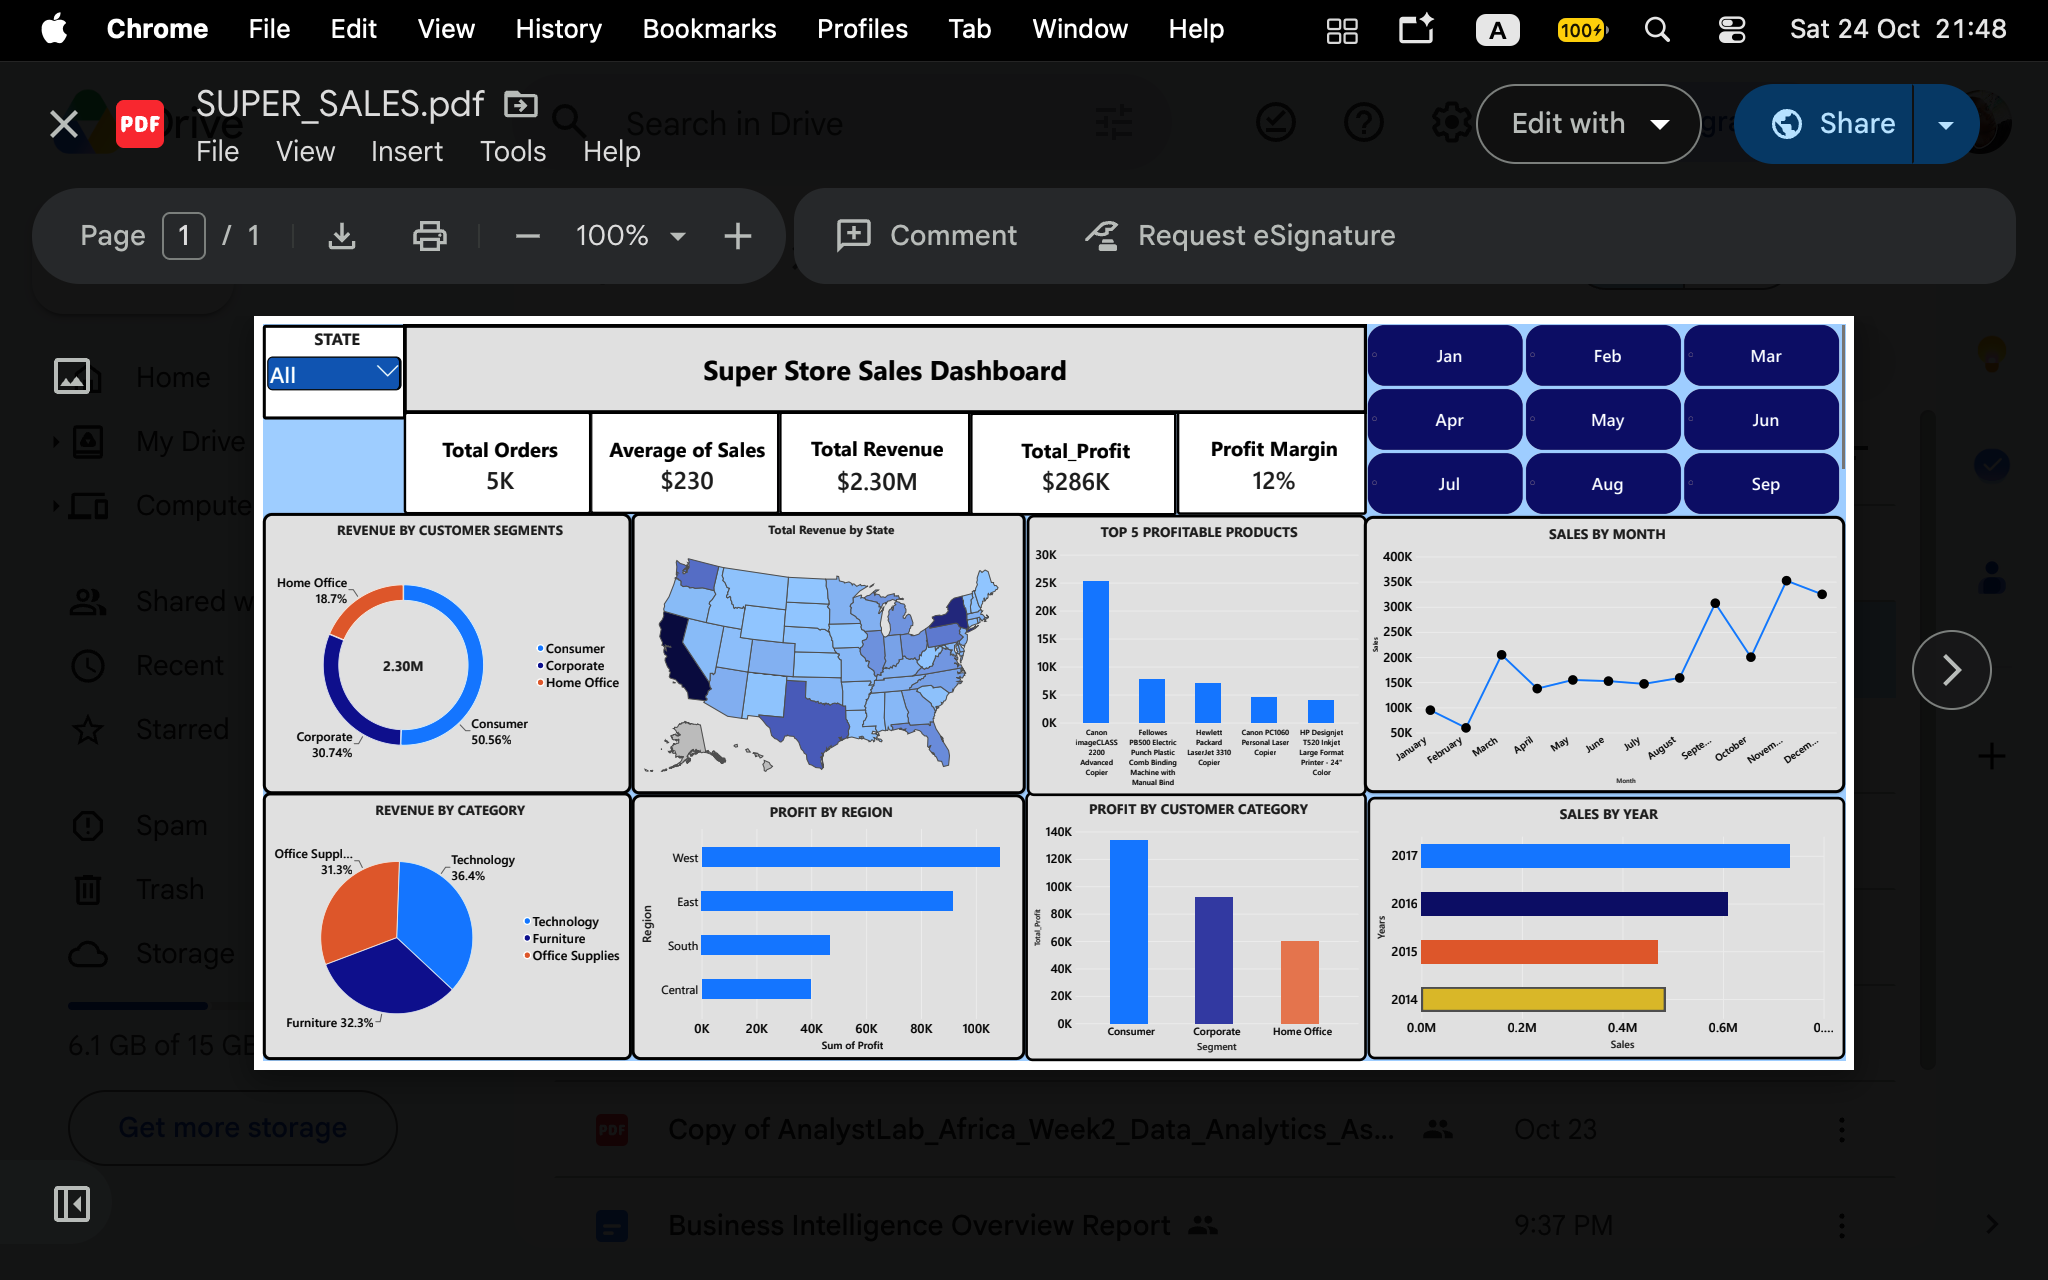

Layout of this report page (visuals, bound fields, positions):
{"tool":"powerbi","page":{"name":"Overview","canvas":[4300,2000],"ordinal":0},"visuals":[{"type":"cardVisual","fields":{"Data":["Sample - Superstore (2).Total Revenue"]},"box":[1403.1,234.7,520.4,280.6],"z":0},{"type":"clusteredColumnChart","title":"PROFIT BY CUSTOMER CATEGORY","fields":{"Category":["Sample - Superstore (2).Segment"],"Y":["Sample - Superstore (2).Total_Profit"]},"box":[2072,1268,928,732],"z":1000},{"type":"barChart","title":"PROFIT BY REGION","fields":{"Category":["Sample - Superstore (2).Region"],"Y":["Sum(Sample - Superstore (2).Profit)"]},"box":[1002.3,1275,1070,721.8],"z":2000},{"type":"pieChart","title":"REVENUE BY CATEGORY","fields":{"Category":["Sample - Superstore (2).Category"],"Y":["Sum(Sample - Superstore (2).Sales)"]},"box":[0,1269.6,1003.4,727],"z":3000},{"type":"cardVisual","fields":{"Data":["Sample - Superstore (2).Profit Margin"]},"box":[2484,232,516,284],"z":4000},{"type":"cardVisual","fields":{"Data":["Avg(Sample - Superstore (2).Sales)"]},"box":[889.3,233.6,515.3,280.6],"z":5000},{"type":"cardVisual","fields":{"Data":["Sample - Superstore (2).Total_Profit"]},"box":[1922.1,237.7,561.2,280.6],"z":6000},{"type":"cardVisual","fields":{"Data":["Count(Sample - Superstore (2).Order ID)"]},"box":[382.7,234.7,510.2,280.6],"z":7000},{"type":"donutChart","title":"REVENUE BY CUSTOMER  SEGMENTS","fields":{"Category":["Sample - Superstore (2).Segment"],"Y":["Sample - Superstore (2).Total Revenue"]},"box":[0,511.4,1002.3,763.6],"z":8000},{"type":"clusteredColumnChart","title":"TOP 5 PROFITABLE  PRODUCTS","fields":{"Category":["Sample - Superstore (2).Product Name"],"Y":["Sample - Superstore (2).Total_Profit"]},"box":[2076,516,924,764],"z":9000},{"type":"slicer","title":"STATE","fields":{"Values":["Sample - Superstore (2).State"]},"box":[0,0,388.8,256.6],"z":10000},{"type":"shapeMap","fields":{"Category":["Sample - Superstore (2).State"],"Value":["Sample - Superstore (2).Total Revenue"]},"box":[1002.3,511.4,1070.5,763.6],"z":11000},{"type":"shape","box":[382.7,0,2617.3,239.8],"z":12000},{"type":"lineChart","title":"SALES BY MONTH","fields":{"Category":["Data.Order Date.Variation.Date Hierarchy.Month"],"Y":["Sum(Data.Sales)"]},"box":[2992.2,519.1,1307.8,753.1],"z":13000},{"type":"clusteredBarChart","title":"SALES BY  YEAR","fields":{"Category":["Data.Order Date.Variation.Date Hierarchy.Year"],"Y":["Sum(Data.Sales)"]},"box":[3002.4,1282.4,1297.6,712.4],"z":14000},{"type":"advancedSlicerVisual","fields":{"Values":["Data.Month"]},"box":[3002,0,1298,516.7],"z":15000}]}

Visuals, with their boxes on the page's 4300x2000 design canvas (x1, y1, x2, y2). These are canvas units, not pixel positions in the 2048x1280 screenshot, which may show the page scaled, cropped or inside an application window:
cardVisual - Sample - Superstore (2).Total Revenue: x1=1403 y1=235 x2=1924 y2=515
"PROFIT BY CUSTOMER CATEGORY" clusteredColumnChart: x1=2072 y1=1268 x2=3000 y2=2000
"PROFIT BY REGION" barChart: x1=1002 y1=1275 x2=2072 y2=1997
"REVENUE BY CATEGORY" pieChart: x1=0 y1=1270 x2=1003 y2=1997
cardVisual - Sample - Superstore (2).Profit Margin: x1=2484 y1=232 x2=3000 y2=516
cardVisual - Avg(Sample - Superstore (2).Sales): x1=889 y1=234 x2=1405 y2=514
cardVisual - Sample - Superstore (2).Total_Profit: x1=1922 y1=238 x2=2483 y2=518
cardVisual - Count(Sample - Superstore (2).Order ID): x1=383 y1=235 x2=893 y2=515
"REVENUE BY CUSTOMER  SEGMENTS" donutChart: x1=0 y1=511 x2=1002 y2=1275
"TOP 5 PROFITABLE  PRODUCTS" clusteredColumnChart: x1=2076 y1=516 x2=3000 y2=1280
"STATE" slicer: x1=0 y1=0 x2=389 y2=257
shapeMap - Sample - Superstore (2).State x Sample - Superstore (2).Total Revenue: x1=1002 y1=511 x2=2073 y2=1275
shape: x1=383 y1=0 x2=3000 y2=240
"SALES BY MONTH" lineChart: x1=2992 y1=519 x2=4300 y2=1272
"SALES BY  YEAR" clusteredBarChart: x1=3002 y1=1282 x2=4300 y2=1995
advancedSlicerVisual - Data.Month: x1=3002 y1=0 x2=4300 y2=517
